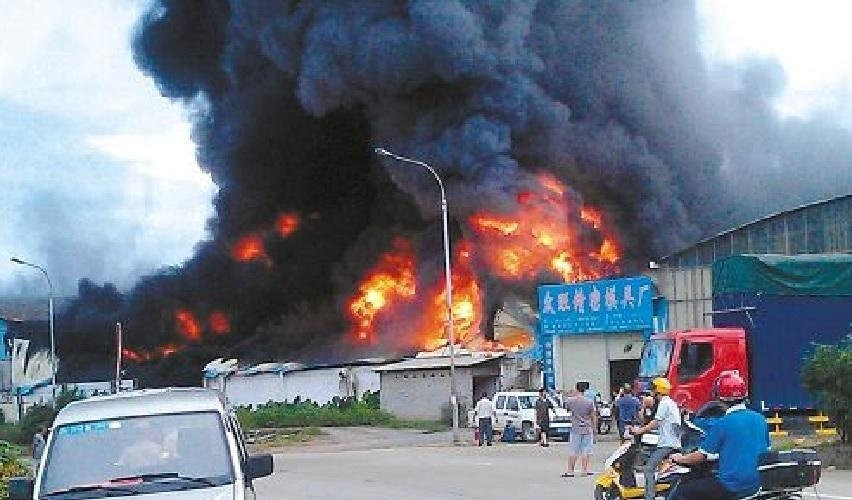fire: (348, 182, 622, 357), (122, 317, 213, 359)
